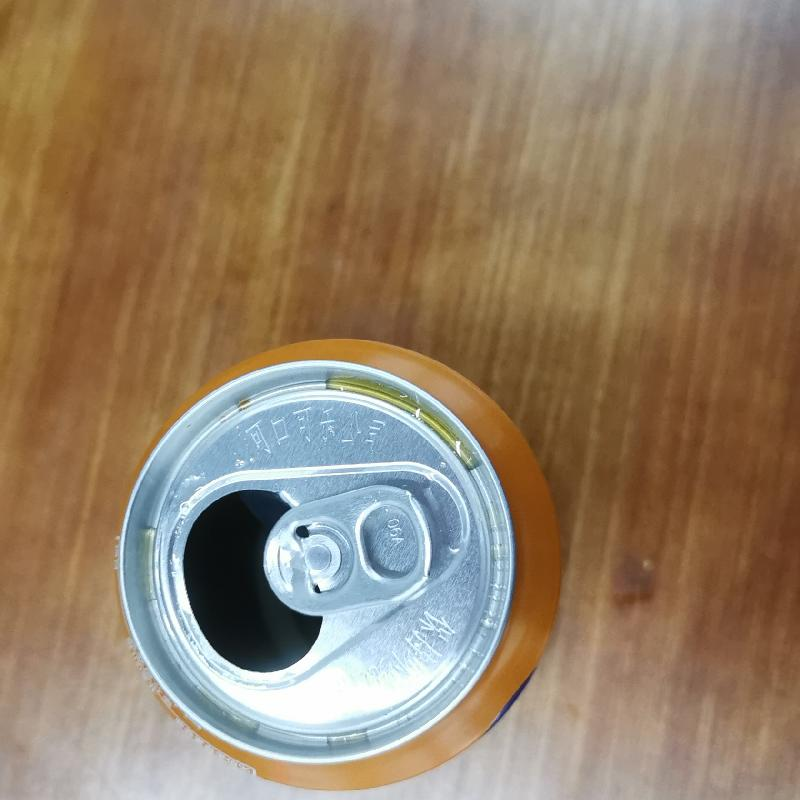cans: (112, 334, 570, 790)
